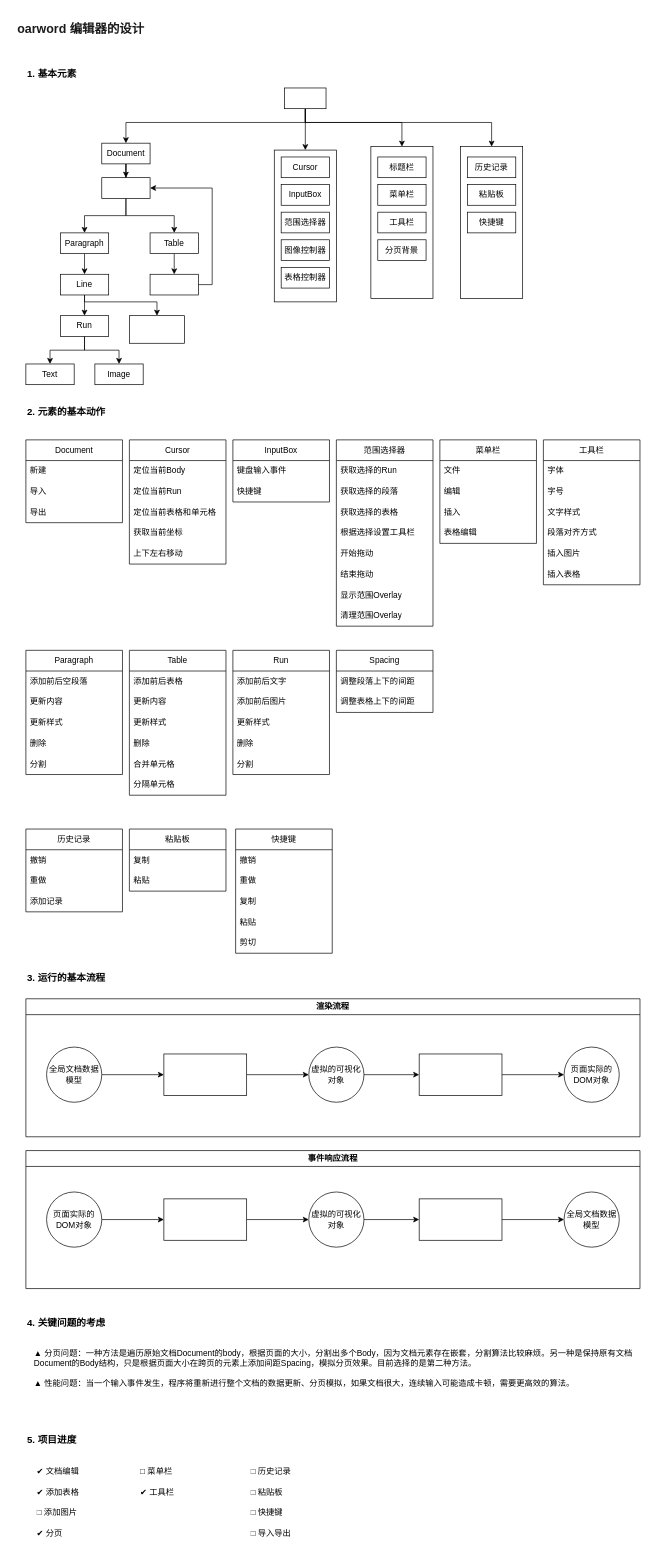
This 658x1555 diagram has some shape labels left out. The shapes that lost their labels are listed below. From the top down, each one's centre as x and y in pixels, then its label:
At pixel 305 98: "全局".
At pixel 125 187: "Body".
At pixel 173 284: "Cell".
At pixel 157 329: "分页模拟Spacing".
At pixel 205 1074: "解析、实例化".
At pixel 460 1074: "响应式页面框架、DOM对象渲染".
At pixel 205 1219: "响应式页面框架、事件动作绑定".
At pixel 460 1219: "更新数据模型".
